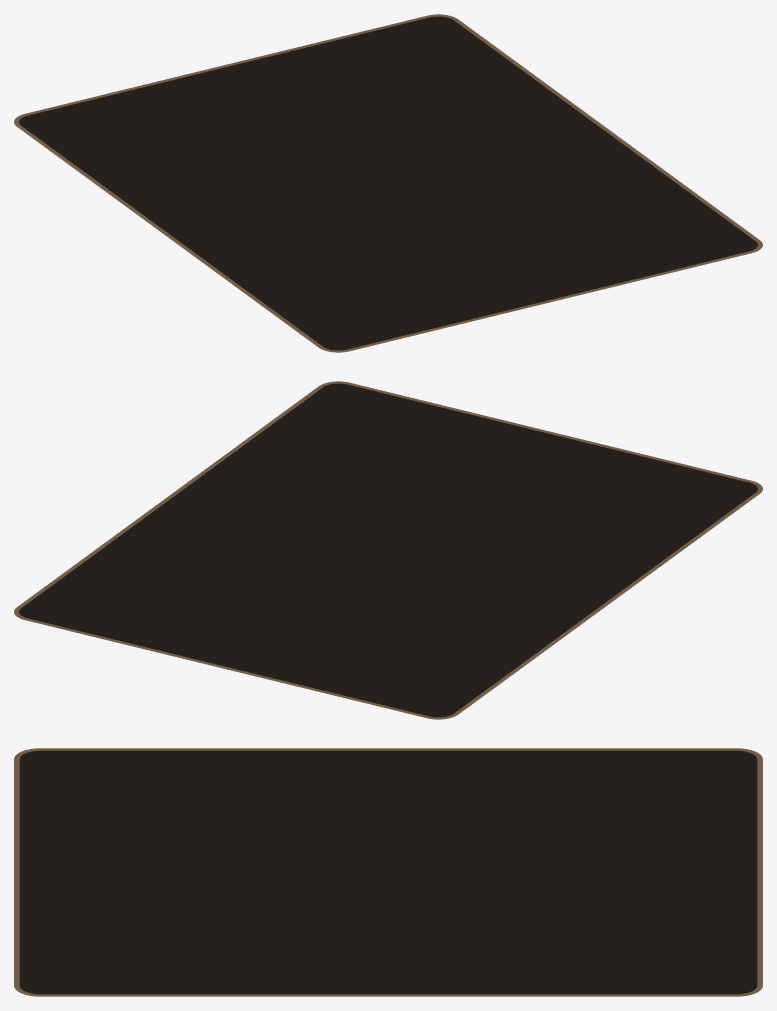
Rendered from ReceiverBlockout.obj.
3 views of the same model, one above another, from view 1: azimuth 30°, elevation 25°; view 2: azimuth 150°, elevation 25°; view 3: azimuth 270°, elevation 25° (orthographic). The views are drawn at different scales.
Parts seen in each view (by area): view 1: RearWoodStoragePlate; view 2: RearWoodStoragePlate; view 3: RearWoodStoragePlate.
Part boxes in pixels (left/top/right/bottom): RearWoodStoragePlate: left=14, top=14, right=762, bottom=352; RearWoodStoragePlate: left=14, top=381, right=762, bottom=719; RearWoodStoragePlate: left=14, top=748, right=762, bottom=996.
Bounding box in the file's own units: 2.24 × 0 × 2.86.
